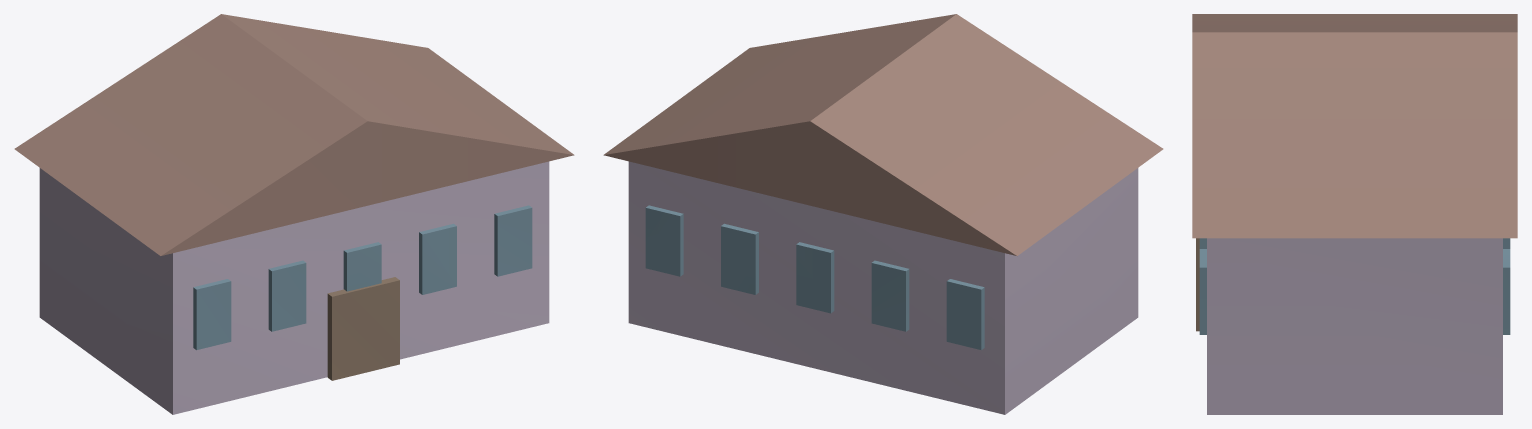
Rendered from greenhouse-04.glb.
3 views of the same model, side by side, from view 1: azimuth 30°, elevation 25°; view 2: azimuth 150°, elevation 25°; view 3: azimuth 270°, elevation 25° (orthographic). The views are drawn at different scales.
Visible parts, largest first — view 1: world; view 2: world; view 3: world.
Part boxes in pixels (x1,y1,x2,y2): world: (14, 14, 574, 414); world: (603, 14, 1163, 414); world: (1192, 14, 1517, 414).
Bounding box in the file's own units: 1.81 × 1.05 × 1.11.
